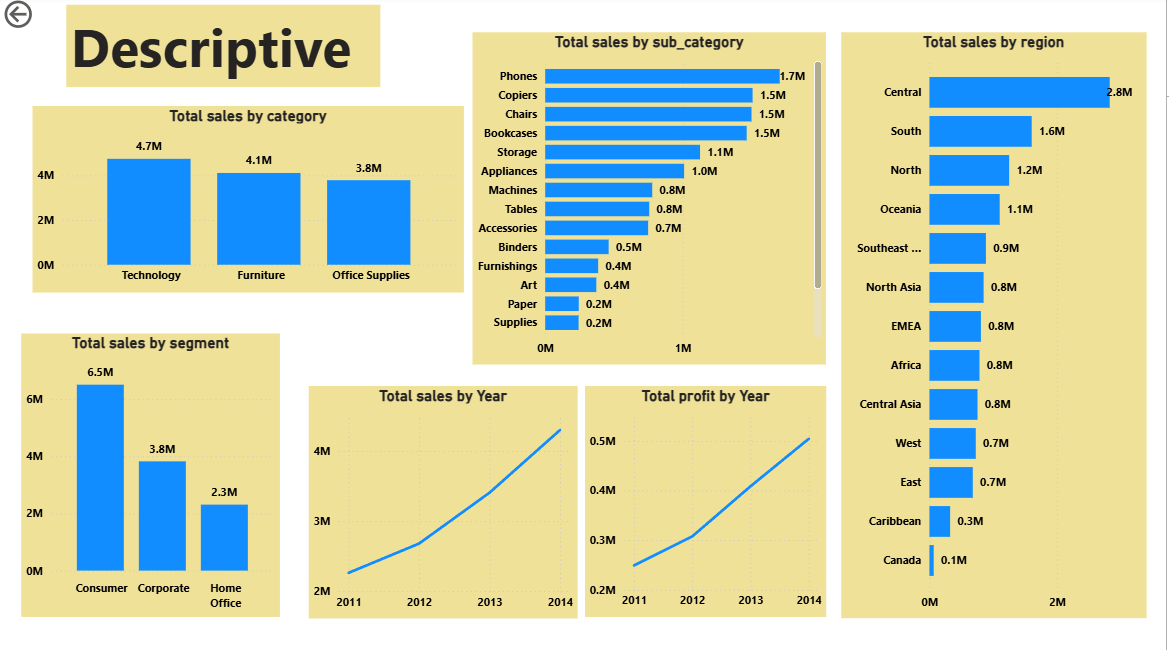

This screenshot's page, from the dashboard's own definition file:
{"tool":"powerbi","page":{"name":"Descriptive ","canvas":[1280,720],"ordinal":1},"visuals":[{"type":"actionButton","box":[0,0,100,40],"z":0},{"type":"lineChart","title":"Total sales by Year","fields":{"Category":["SuperStoreOrders.order_date.Variation.Date Hierarchy.Year","SuperStoreOrders.order_date.Variation.Date Hierarchy.Quarter","SuperStoreOrders.order_date.Variation.Date Hierarchy.Month","SuperStoreOrders.order_date.Variation.Date Hierarchy.Day"],"Y":["Sum(SuperStoreOrders.sales)"]},"box":[338.9,428.1,295,255.2],"z":1000},{"type":"lineChart","title":"Total profit by Year","fields":{"Category":["SuperStoreOrders.order_date.Variation.Date Hierarchy.Year","SuperStoreOrders.order_date.Variation.Date Hierarchy.Quarter","SuperStoreOrders.order_date.Variation.Date Hierarchy.Month","SuperStoreOrders.order_date.Variation.Date Hierarchy.Day"],"Y":["Sum(SuperStoreOrders.profit)"]},"box":[642.2,428.1,264.8,253.9],"z":2000},{"type":"barChart","title":"Total sales by region","fields":{"Y":["Sum(SuperStoreOrders.sales)"],"Category":["SuperStoreOrders.region"]},"box":[923.5,39.8,334.8,643.6],"z":3000},{"type":"clusteredColumnChart","title":"Total sales by category","fields":{"Y":["Sum(SuperStoreOrders.sales)"],"Category":["SuperStoreOrders.category"]},"box":[35.7,120.8,473.4,204.5],"z":4000},{"type":"clusteredBarChart","title":"Total sales by sub_category","fields":{"Category":["SuperStoreOrders.sub_category"],"Y":["Sum(SuperStoreOrders.sales)"]},"box":[518.7,39.8,388.3,365],"z":5000},{"type":"clusteredColumnChart","title":"Total sales by segment","fields":{"Y":["Sum(SuperStoreOrders.sales)"],"Category":["SuperStoreOrders.segment"]},"box":[23.3,370.5,284,311.5],"z":6000},{"type":"textbox","box":[72.7,9.6,344.4,90.6],"z":7000}]}

Visuals, with their boxes in screenshot pixels (x1, y1, x2, y2), scaled from the page's 1280x720 canvas onto the 1169x650 screenshot:
actionButton: box(0, 0, 91, 36)
"Total sales by Year" lineChart: box(310, 386, 579, 617)
"Total profit by Year" lineChart: box(587, 386, 828, 616)
"Total sales by region" barChart: box(843, 36, 1149, 617)
"Total sales by category" clusteredColumnChart: box(33, 109, 465, 294)
"Total sales by sub_category" clusteredBarChart: box(474, 36, 828, 365)
"Total sales by segment" clusteredColumnChart: box(21, 334, 281, 616)
textbox: box(66, 9, 381, 90)
